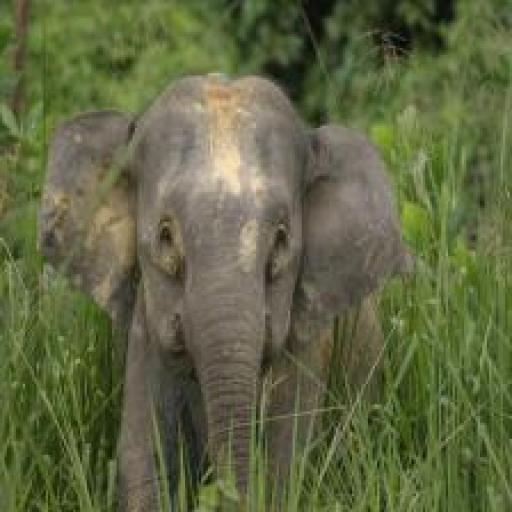Elephant: (36, 71, 414, 512)
